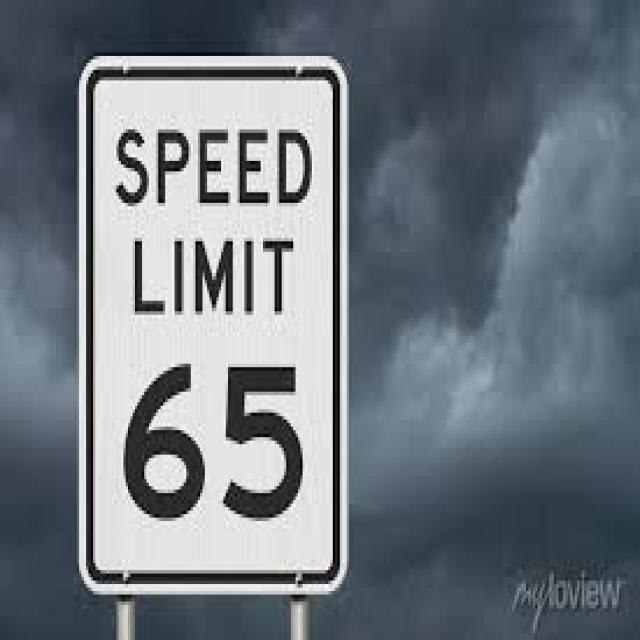speedLimit65: (80, 37, 355, 600)
